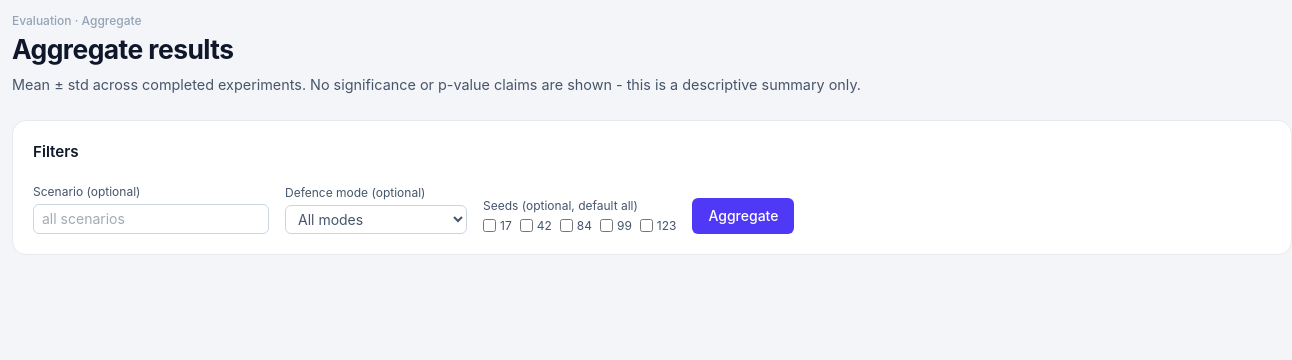
Aggregate view › shows an empty state when no completed experiments match
Click the button "Aggregate" at x=744, y=216, box [692, 198, 794, 234]
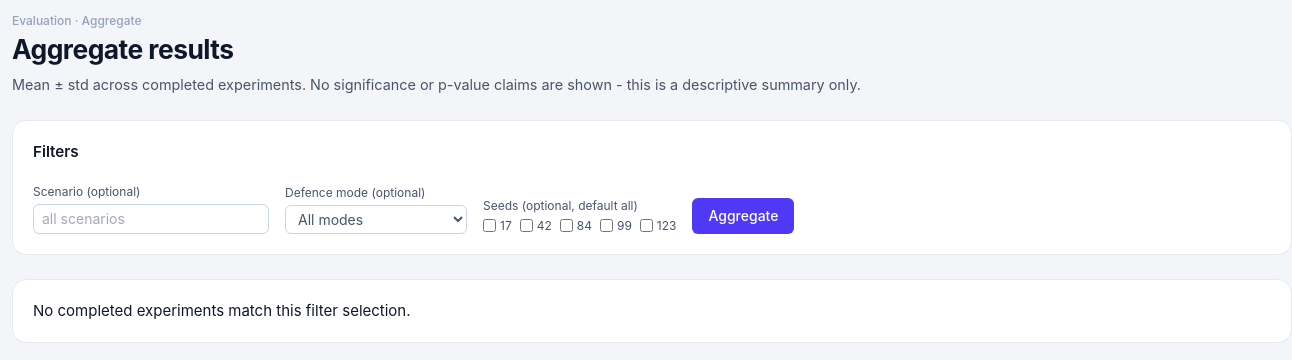
Expected: the text "No completed experiments match this filter selection." is shown, [33, 301, 411, 320]
